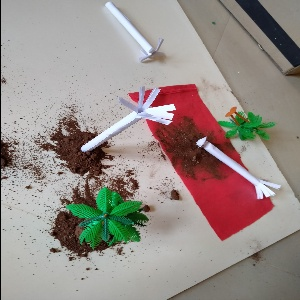plant: (65, 184, 152, 248), (211, 98, 278, 143)
weed: (68, 85, 182, 157), (189, 141, 282, 204), (101, 2, 175, 63)
